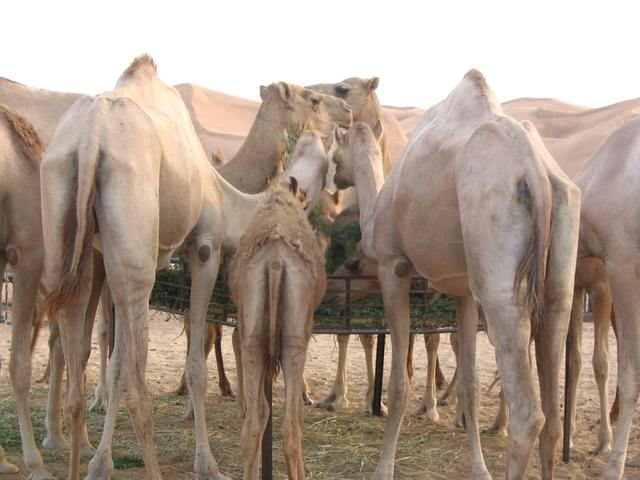camel: (16, 59, 552, 337)
